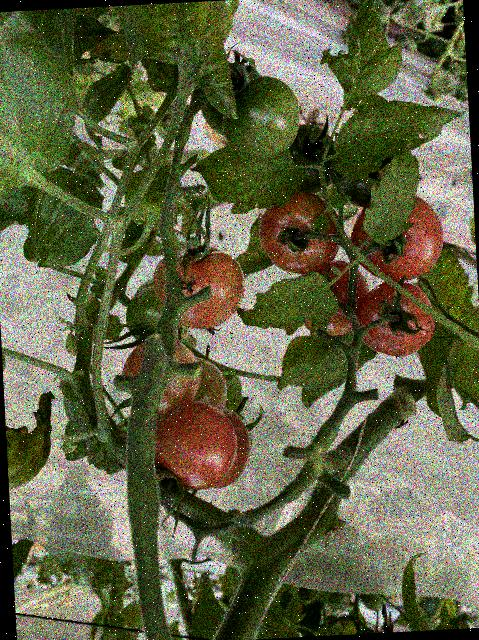l_fully_ripened: (348, 191, 445, 284), (148, 243, 247, 332), (150, 398, 238, 493), (348, 280, 437, 360), (295, 258, 371, 336)
l_green: (217, 73, 302, 160), (284, 122, 339, 196)
l_half_ripened: (255, 189, 343, 278), (118, 338, 202, 416)
